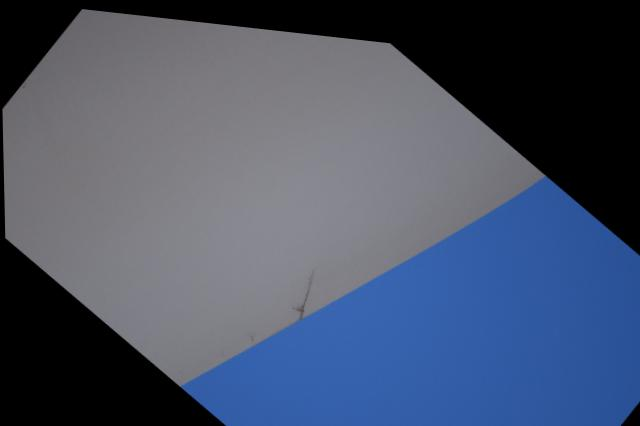damage: (279, 257, 330, 317)
